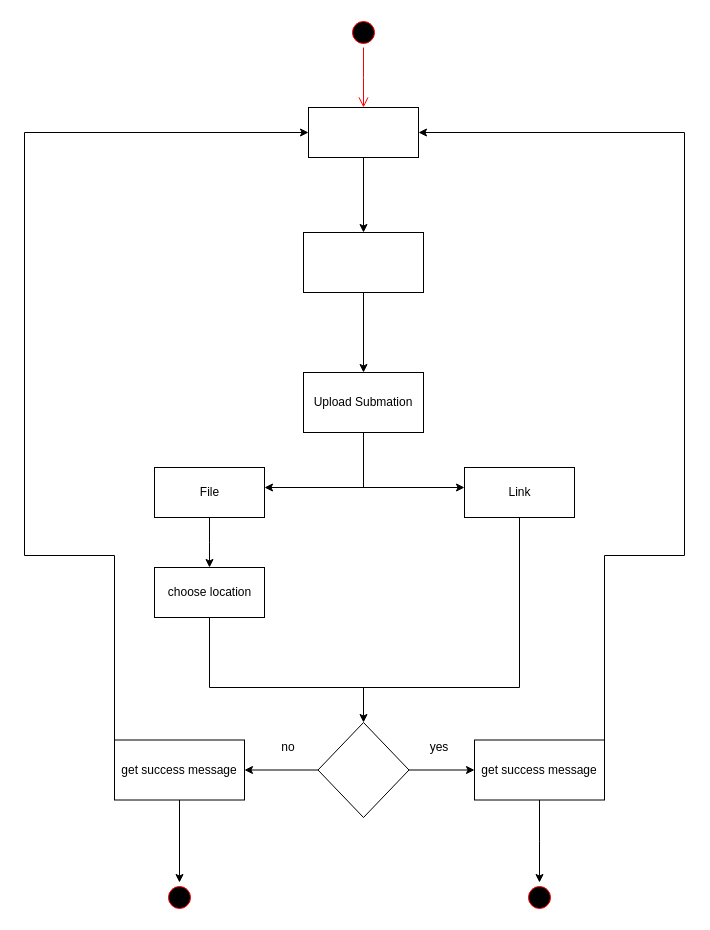
Some shapes in this 710 by 930 pixel diagram are drawn without their labels. The shapes that lost their labels are listed below. From the top down, each one's box as (x1, y1, x2, y2) in pixels, then its label:
(308, 106, 418, 158): Open Screen
(302, 232, 424, 292): Choose Task
(317, 722, 409, 818): is Successed
